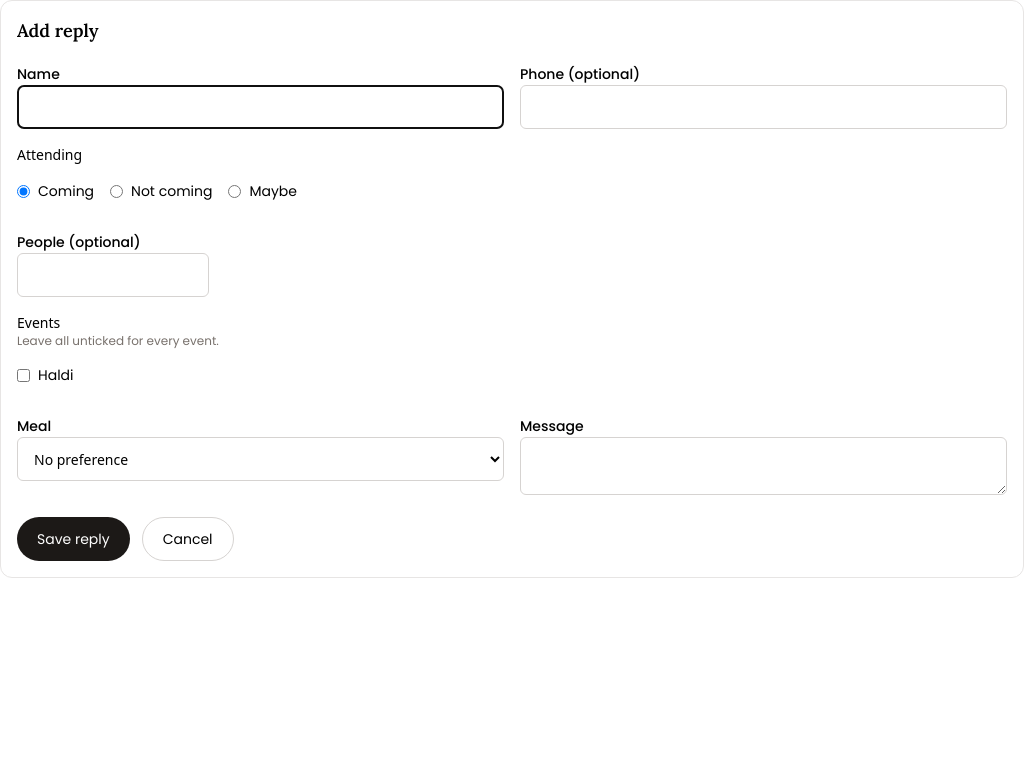
Scenario: RsvpForm › rejects a phone that isn't a number and a bad guest count
Type "A" into the field labelled "Name" at {"x": 260, "y": 107}, box [17,85,504,129]
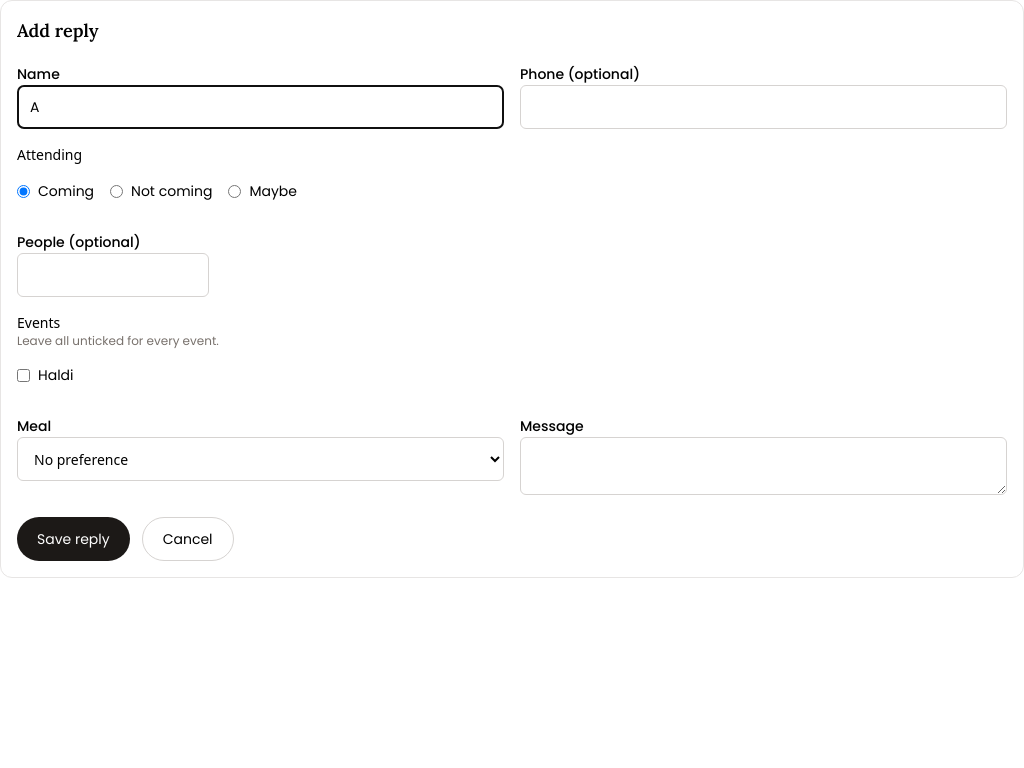
Type "abc" into the field labelled "Phone (optional)" at {"x": 764, "y": 107}, box [520,85,1007,129]
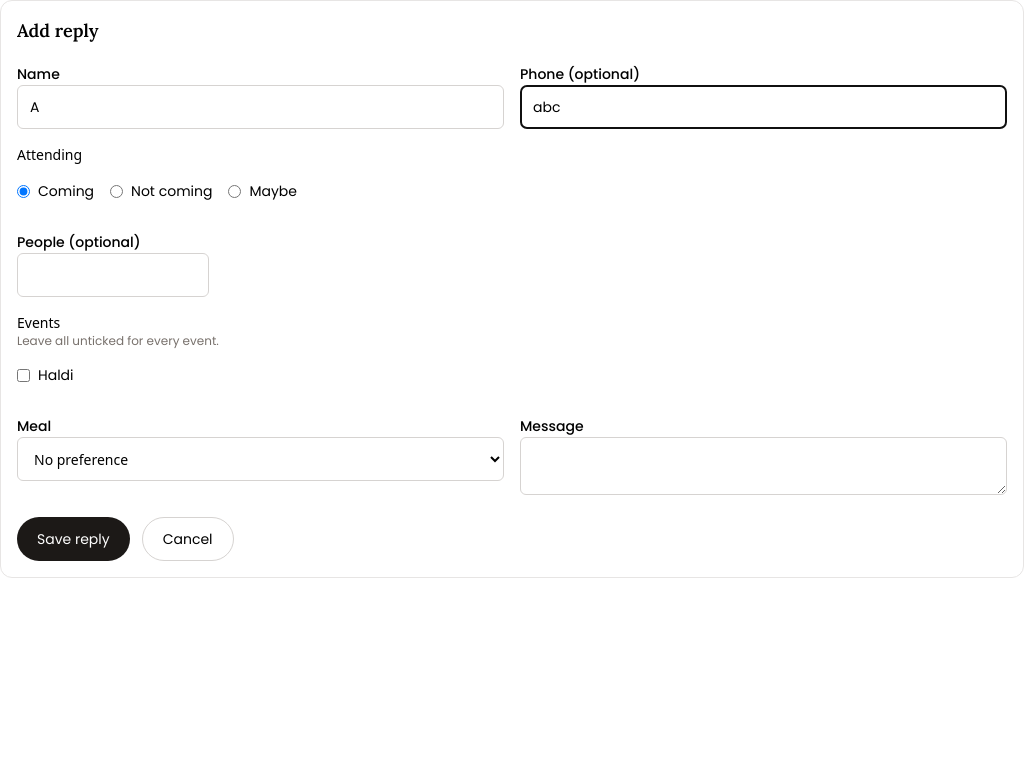
Type "99" into the number field labelled "People (optional)" at {"x": 113, "y": 275}, box [17,253,209,297]
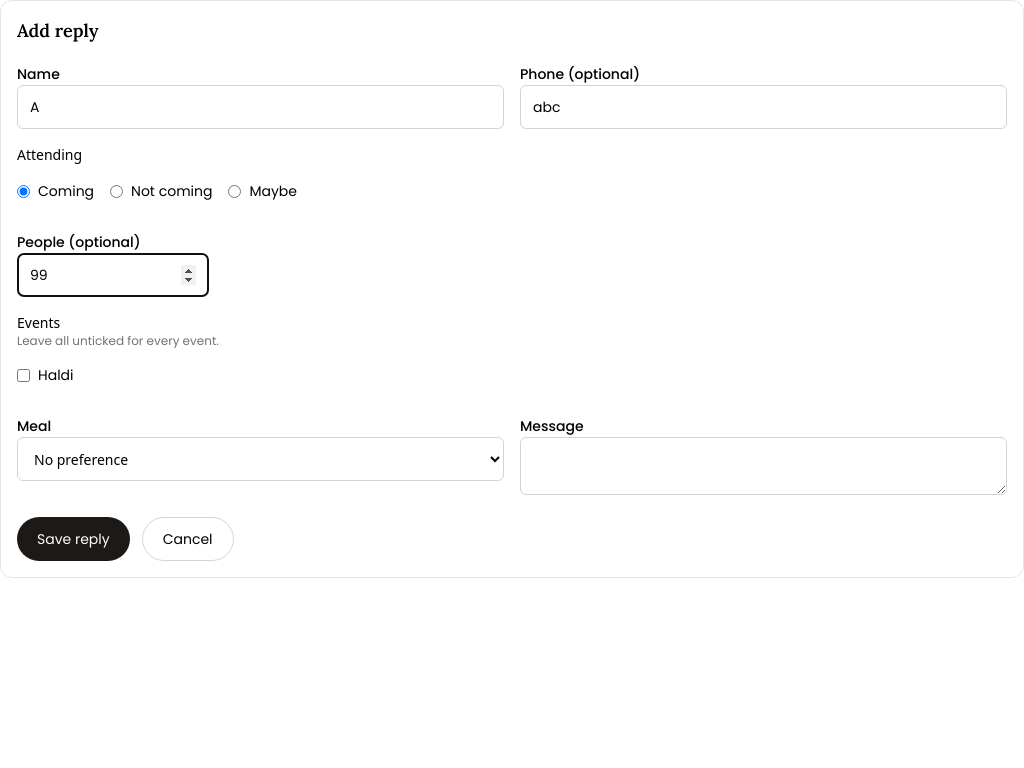
Click the button "Save reply" at {"x": 73, "y": 539}, box [17,517,130,561]
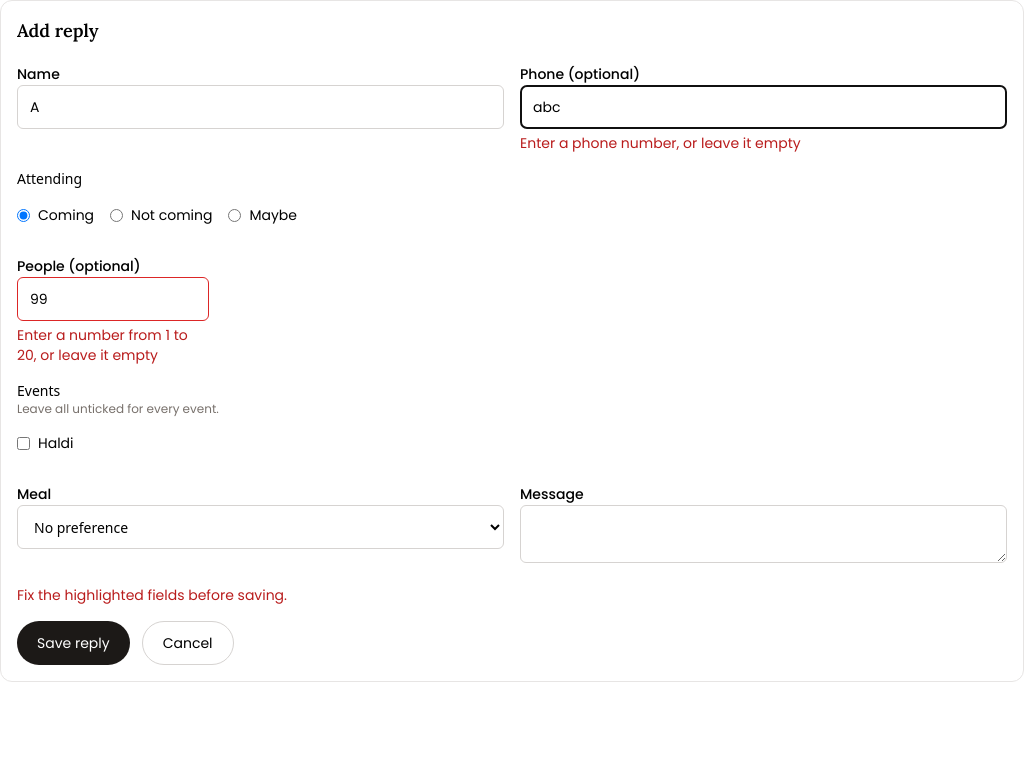
Result: the text "Enter a phone number, or leave it empty" is shown at [520,133,801,153]
Result: the text "Enter a number from 1 to 20, or leave it empty" is shown at [17,325,209,365]
